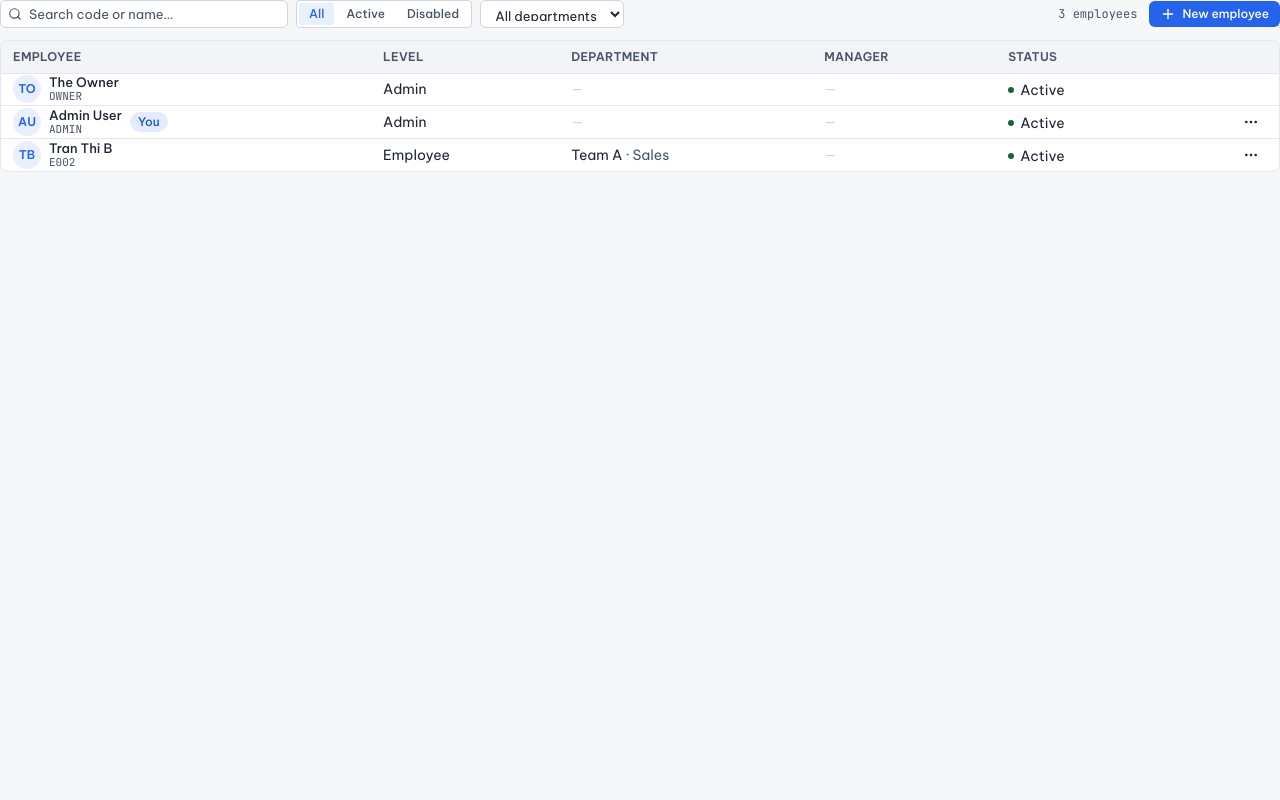
Test case: UsersPanel: row actions › offers no actions on the owner, and no disabling of yourself
Expected: the text "The Owner" is shown, top-left (49, 74), bottom-right (119, 90)
Expected: the text "You" is shown, top-left (130, 112), bottom-right (168, 132)
Click the button named "Actions for" at (1251, 122), box top-left (1235, 106), bottom-right (1267, 138)
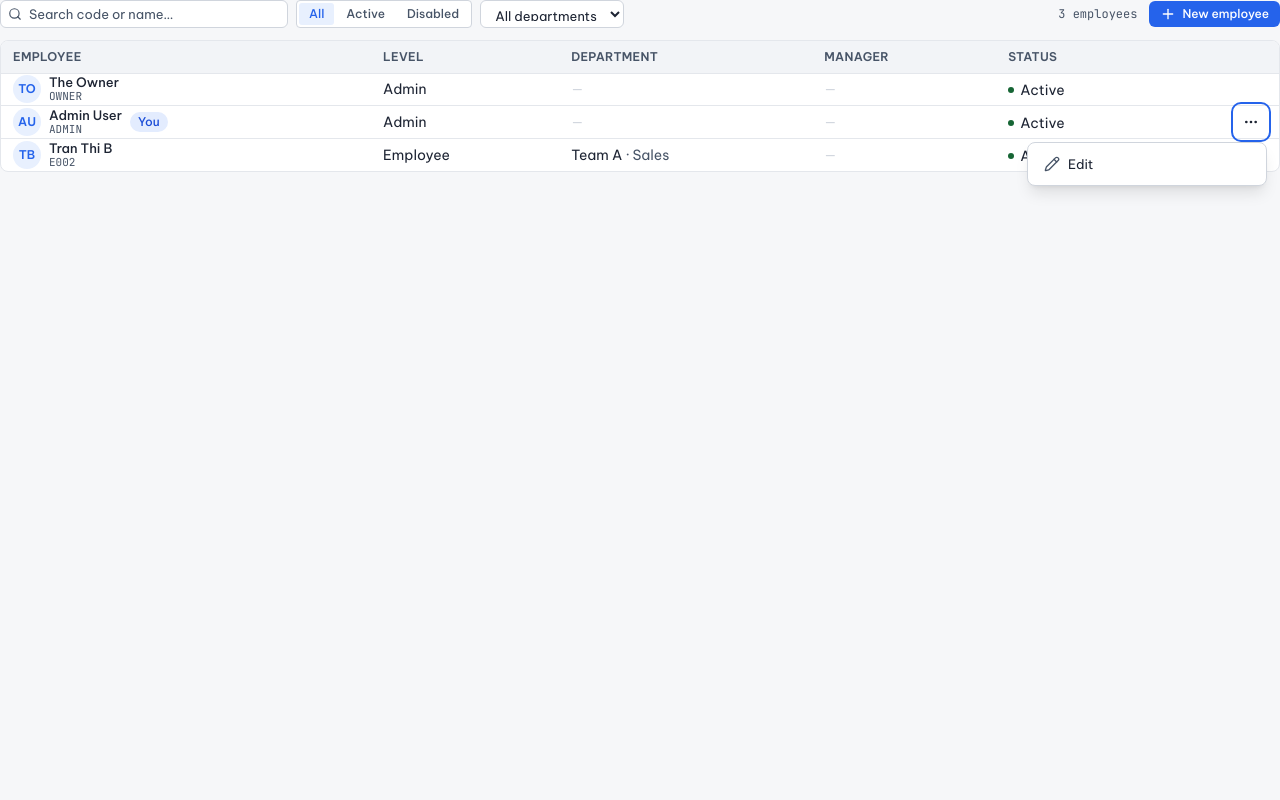
Expected: the menu item "Reset password" is not shown
Expected: the menu item "Edit" is shown, top-left (1034, 148), bottom-right (1260, 179)
Press Escape
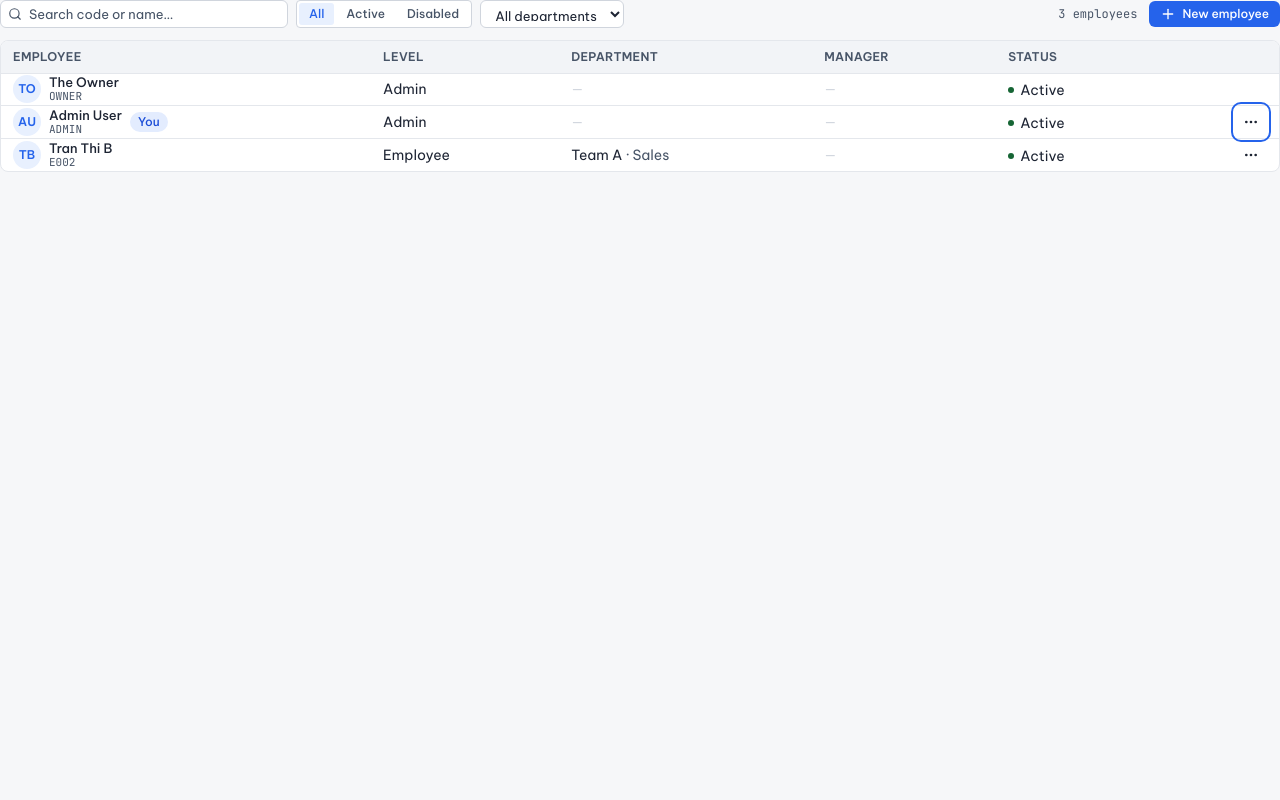
Click the button named "Actions for" at (1251, 154), box top-left (1235, 138), bottom-right (1267, 170)
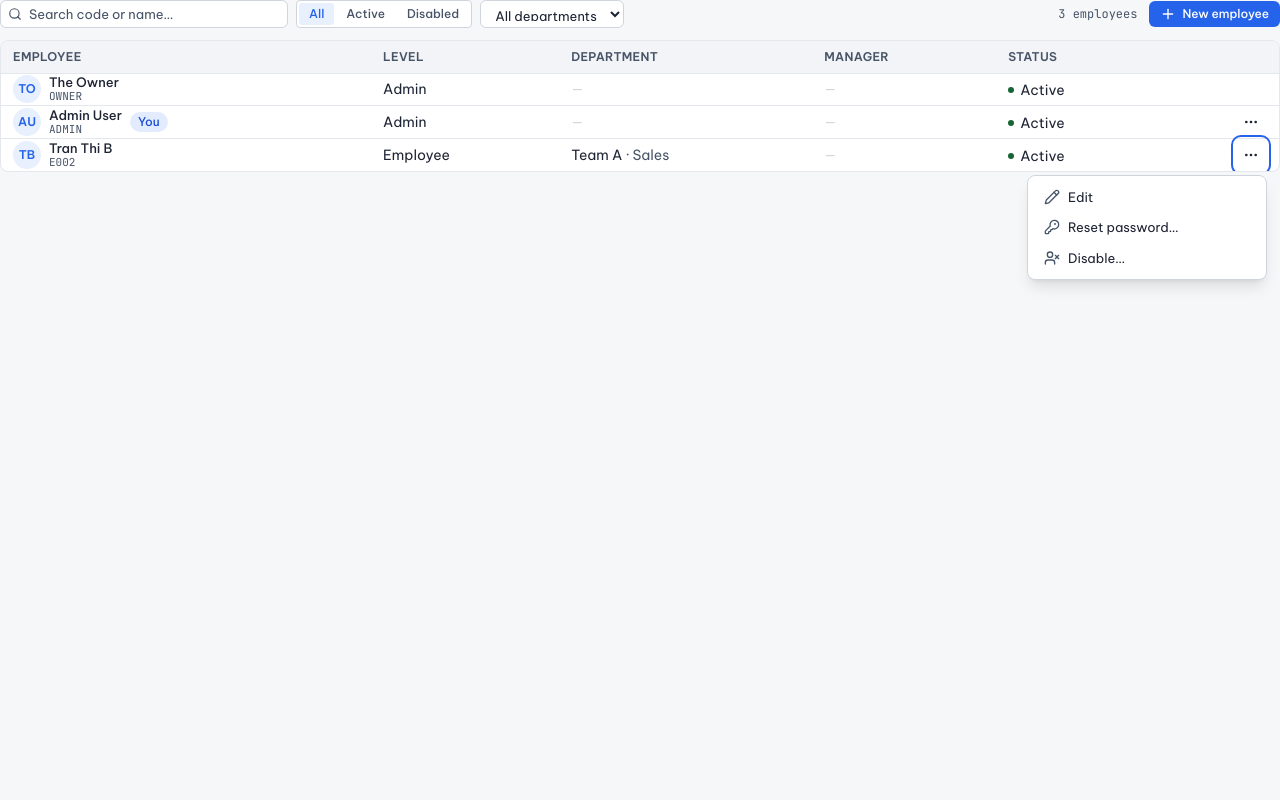
Expected: the menu item "Disable…" is shown, top-left (1034, 243), bottom-right (1260, 273)
Expected: the menu item "Reset password…" is shown, top-left (1034, 212), bottom-right (1260, 243)
